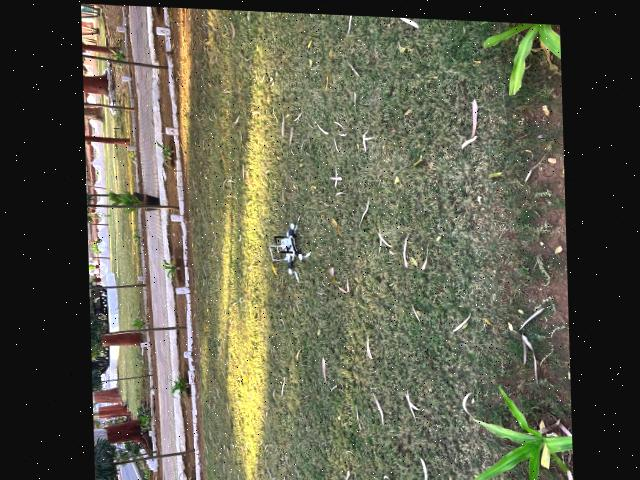drone: (252, 193, 319, 297)
